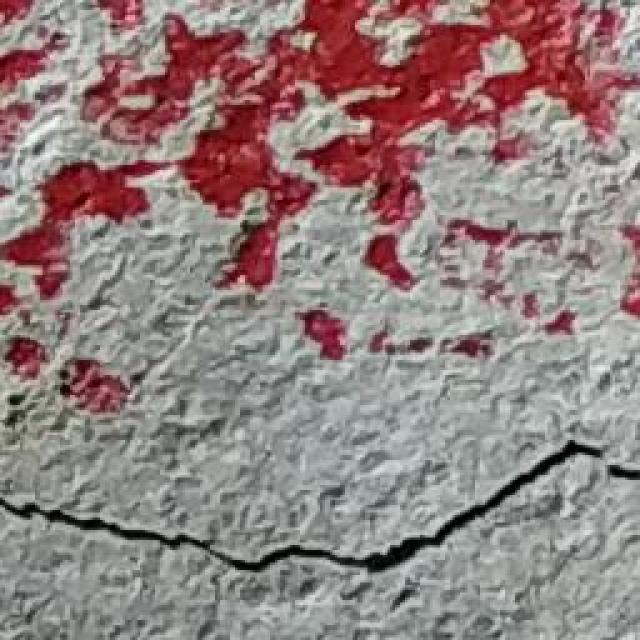Transverse: (0, 438, 640, 594)
